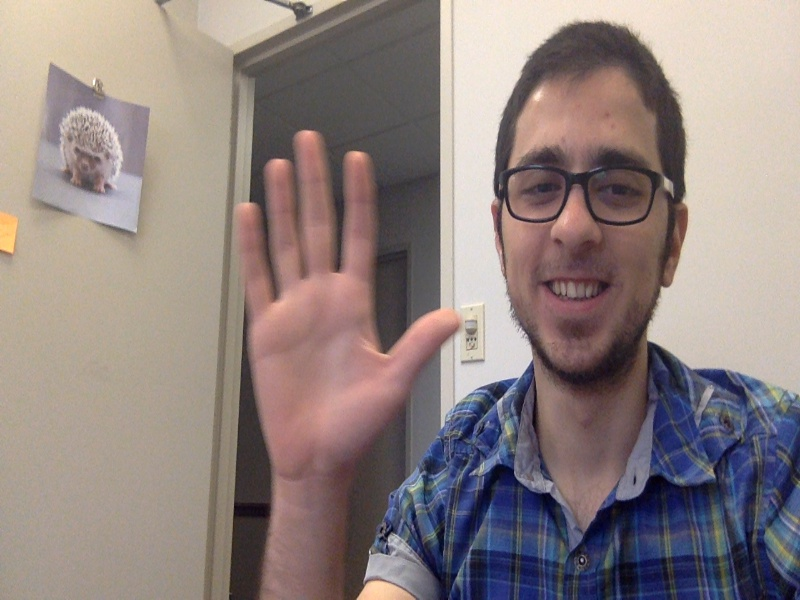5-hand: (236, 130, 463, 477)
